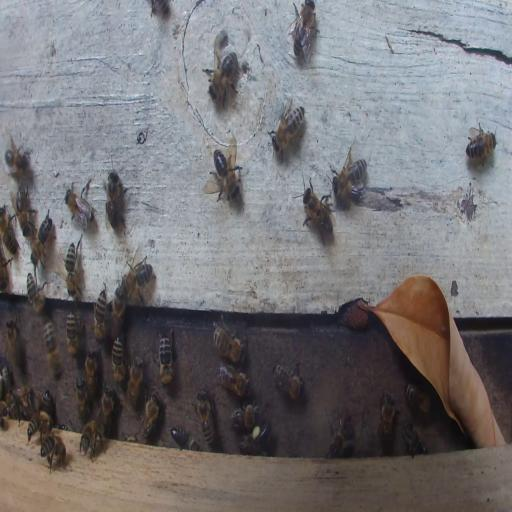nonpollenbee: (297, 175, 336, 243), (330, 148, 368, 202), (287, 0, 319, 64), (206, 49, 239, 107), (272, 97, 305, 153), (211, 316, 248, 363), (64, 179, 95, 230), (29, 211, 55, 268), (213, 147, 241, 199), (104, 169, 126, 232), (466, 122, 496, 166), (326, 411, 354, 457), (64, 238, 84, 300), (272, 361, 304, 399), (4, 133, 32, 176), (42, 319, 62, 379), (13, 184, 36, 236), (125, 259, 153, 300), (40, 432, 67, 474), (79, 418, 106, 460), (219, 364, 250, 398), (65, 307, 85, 358), (196, 391, 214, 447), (402, 419, 428, 457), (140, 390, 160, 439), (0, 206, 18, 260), (404, 382, 431, 416), (379, 390, 396, 443), (127, 354, 143, 408), (26, 270, 46, 313), (158, 329, 173, 385), (93, 284, 107, 342), (25, 412, 53, 441), (5, 316, 20, 367), (230, 405, 258, 432), (8, 386, 34, 415), (112, 334, 126, 384), (169, 426, 198, 450), (112, 283, 127, 329), (76, 377, 90, 423), (84, 349, 98, 394), (101, 385, 114, 432), (40, 389, 54, 416)
pollenbee: (238, 423, 273, 458)
